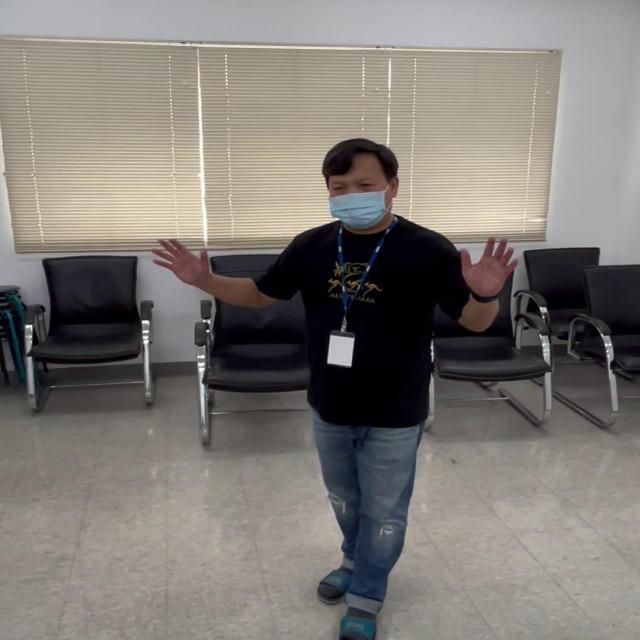bare_hand: (460, 233, 518, 296), (150, 234, 212, 289)
